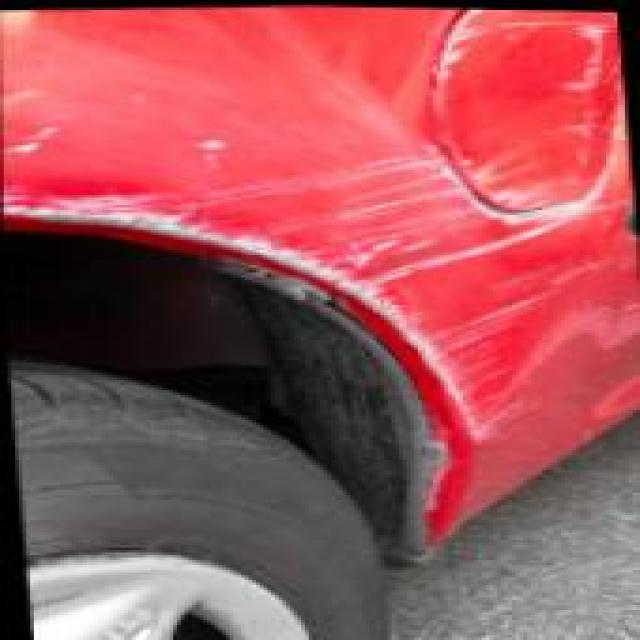Fender: (0, 0, 640, 480)
